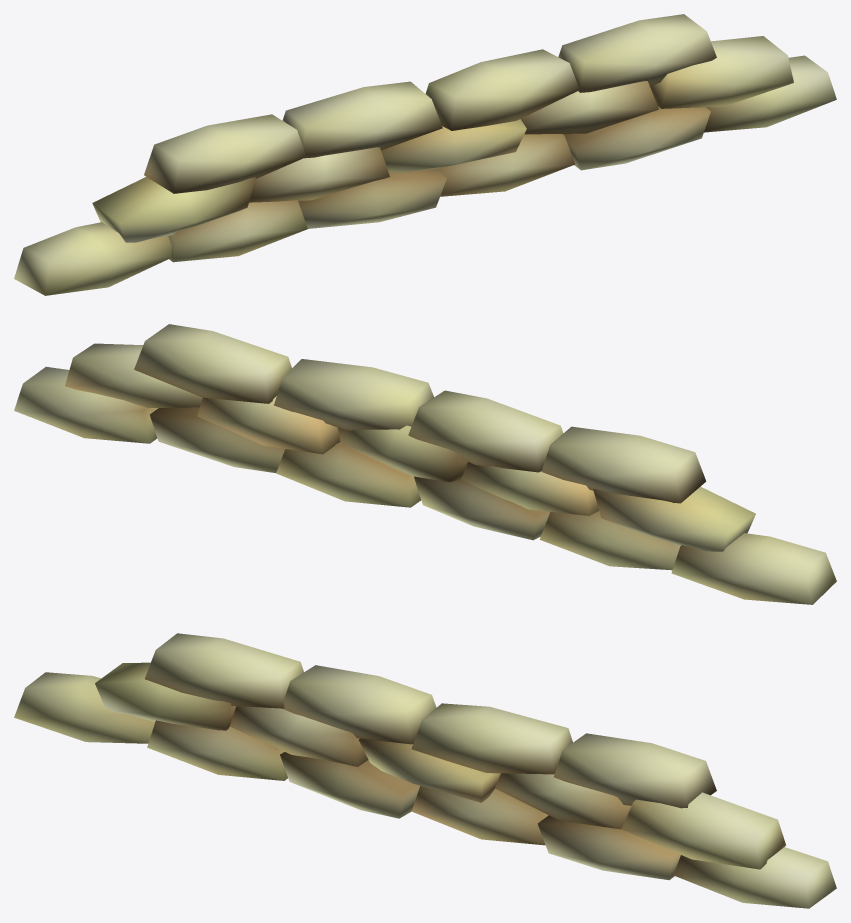
Rendered from sandbags_01_straight_b.dae.
3 views of the same model, one above another, from view 1: azimuth 30°, elevation 25°; view 2: azimuth 150°, elevation 25°; view 3: azimuth 330°, elevation 25° (orthographic).
Visible parts, largest first — view 1: sandbagsSB10; view 2: sandbagsSB10; view 3: sandbagsSB10.
Boxes of the visible parts, <box> form: sandbagsSB10: <box>14,14,836,295</box>; sandbagsSB10: <box>14,324,836,604</box>; sandbagsSB10: <box>14,633,836,908</box>.
Size of what is drawn, in the model's own units: 4.02 by 0.4158 by 0.5896.
